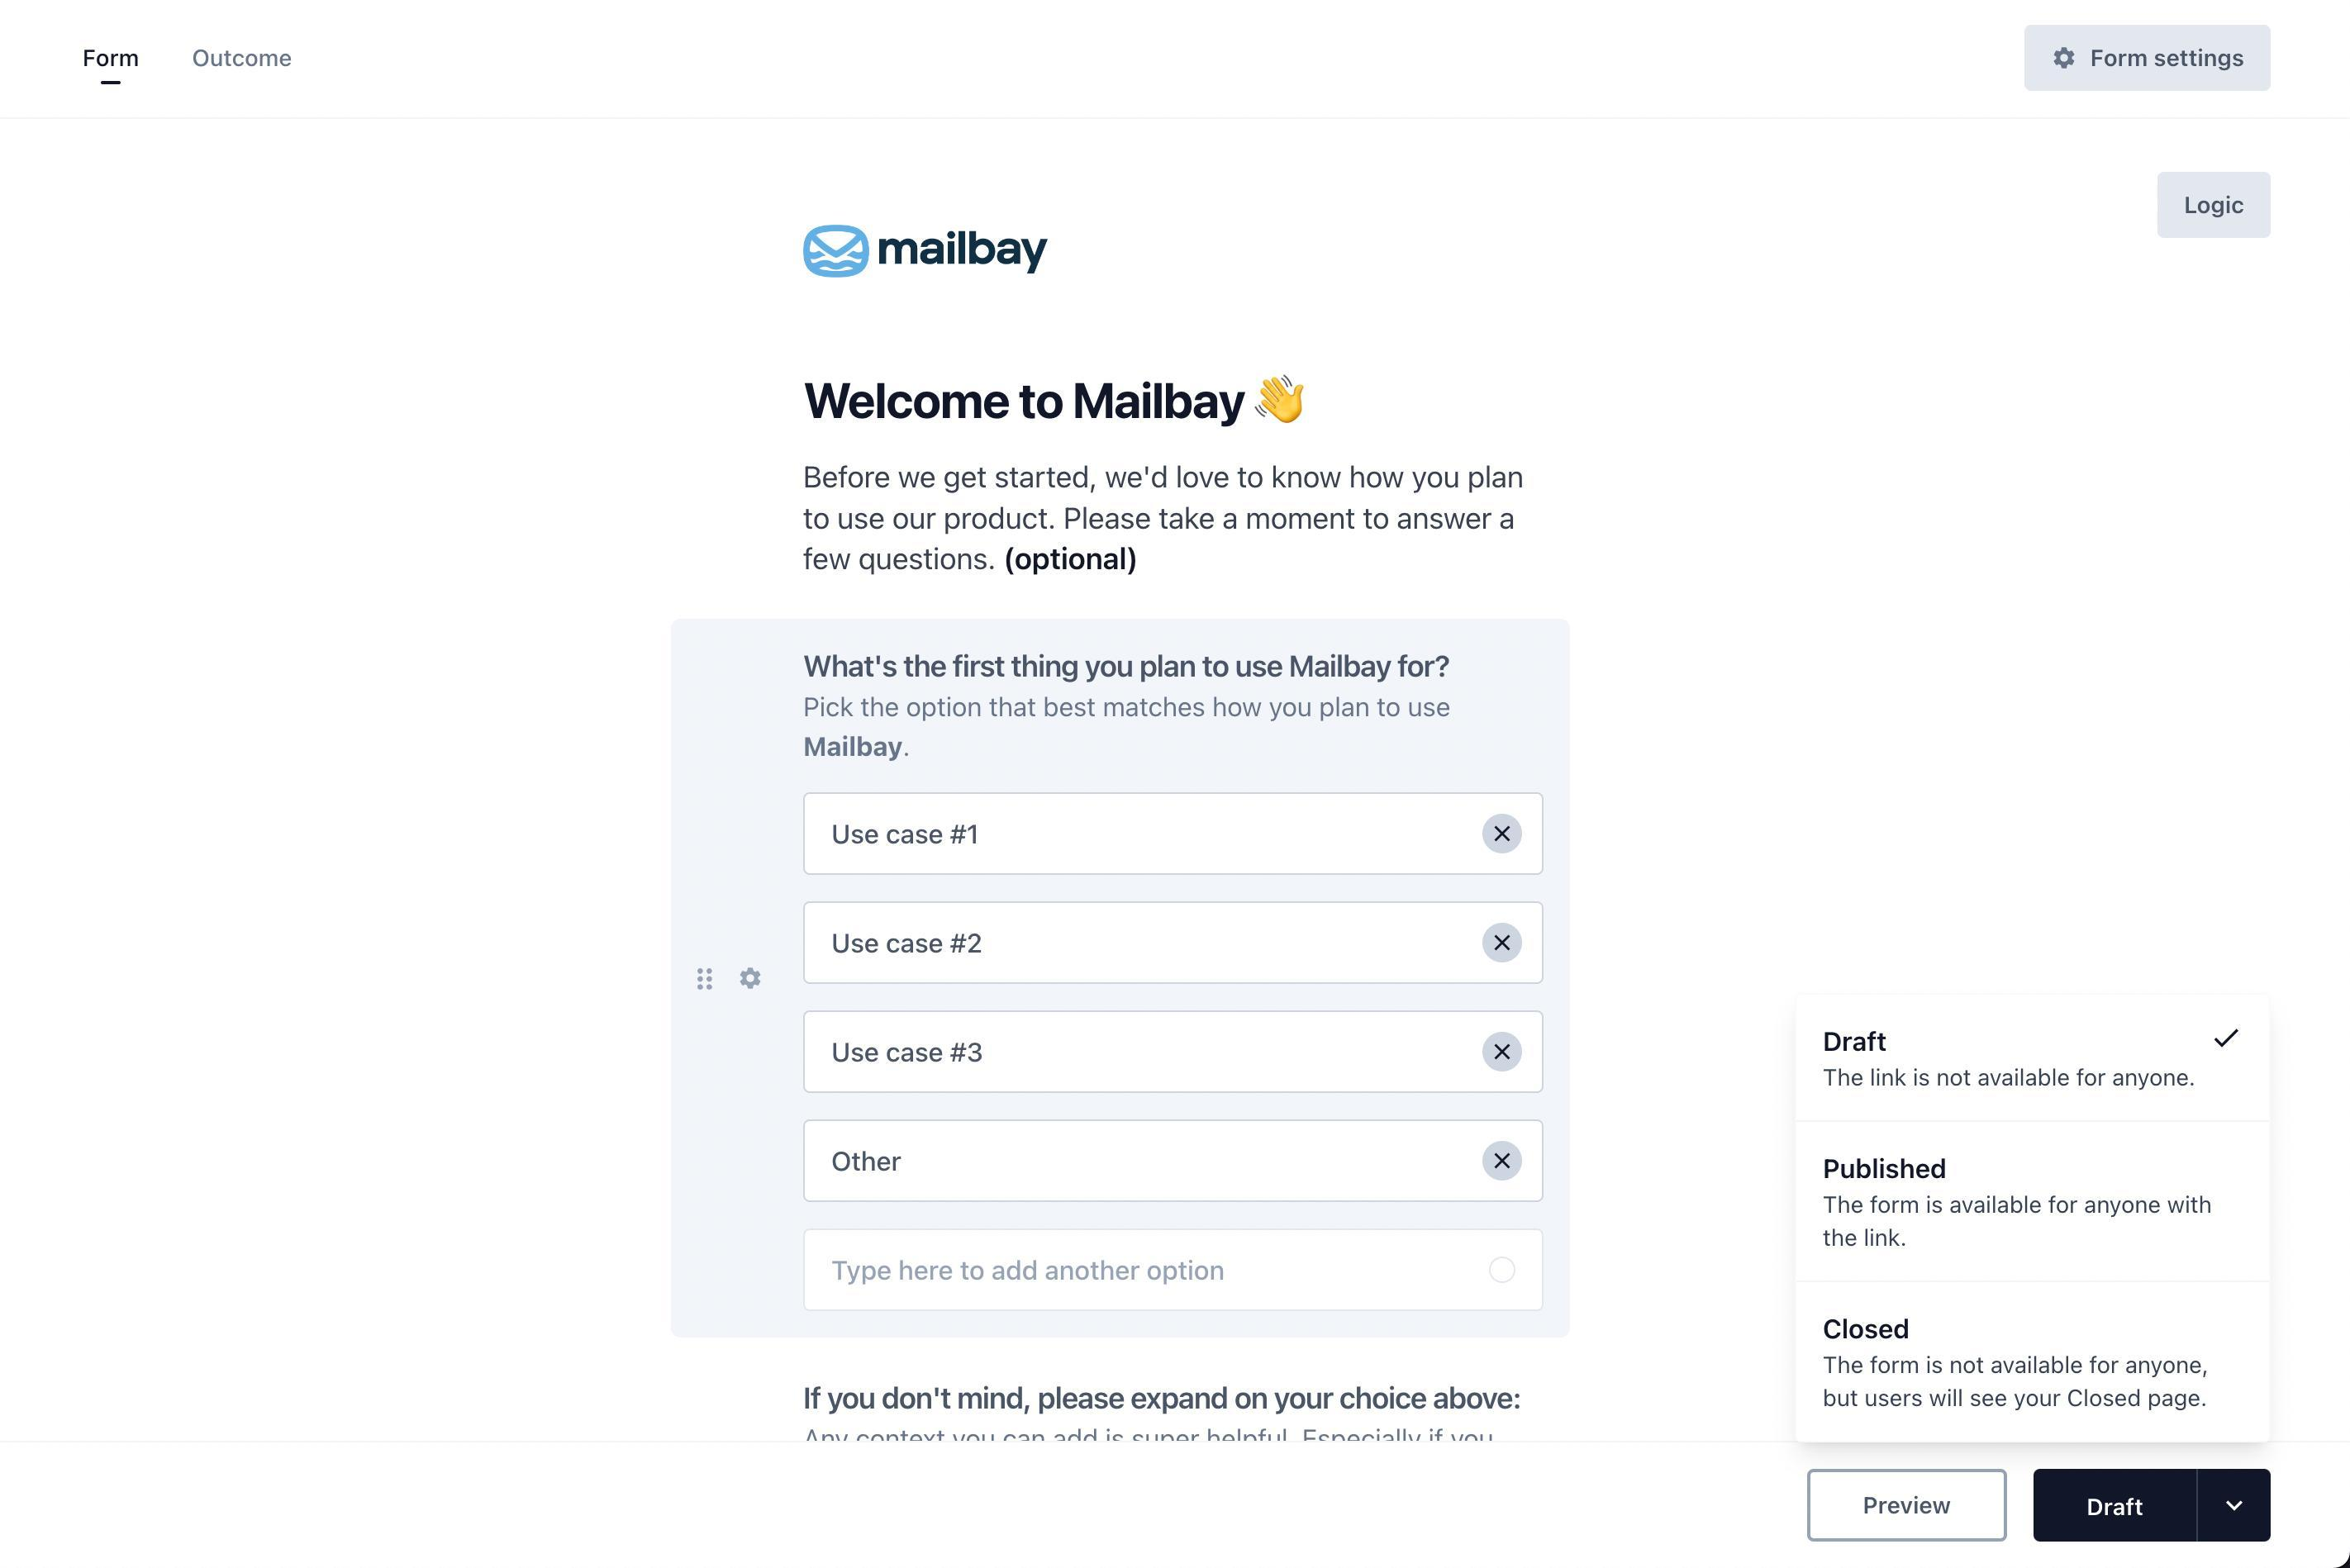button: (2023, 28, 2273, 93), (1806, 1470, 2009, 1545), (2158, 173, 2273, 238)
dropdown: (2035, 1470, 2271, 1544)
input: (807, 1230, 1543, 1314), (803, 1012, 1545, 1094), (805, 793, 1547, 873), (803, 1118, 1543, 1199), (807, 903, 1543, 980)
label: (805, 453, 1528, 584), (798, 695, 1458, 772), (786, 1377, 1528, 1421), (807, 375, 1248, 432), (793, 651, 1461, 686), (878, 233, 1053, 273), (1822, 1150, 1953, 1185), (1816, 1316, 1914, 1340), (1825, 1024, 1893, 1055)
radio: (1484, 1257, 1521, 1286)
